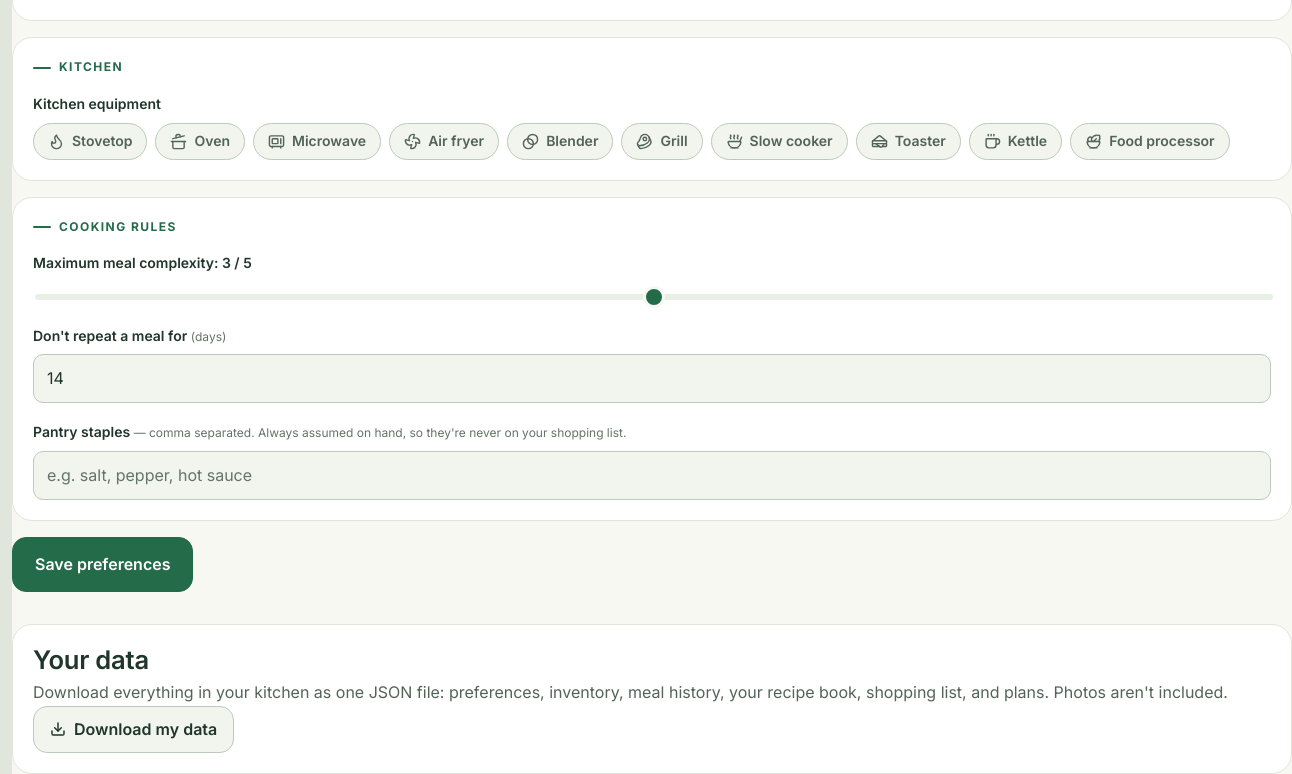
Test: downloads the kitchen as a dated JSON file from Settings
(page scrolled)
Click the button "Download my data".
click(134, 729)  # box [33, 706, 234, 753]
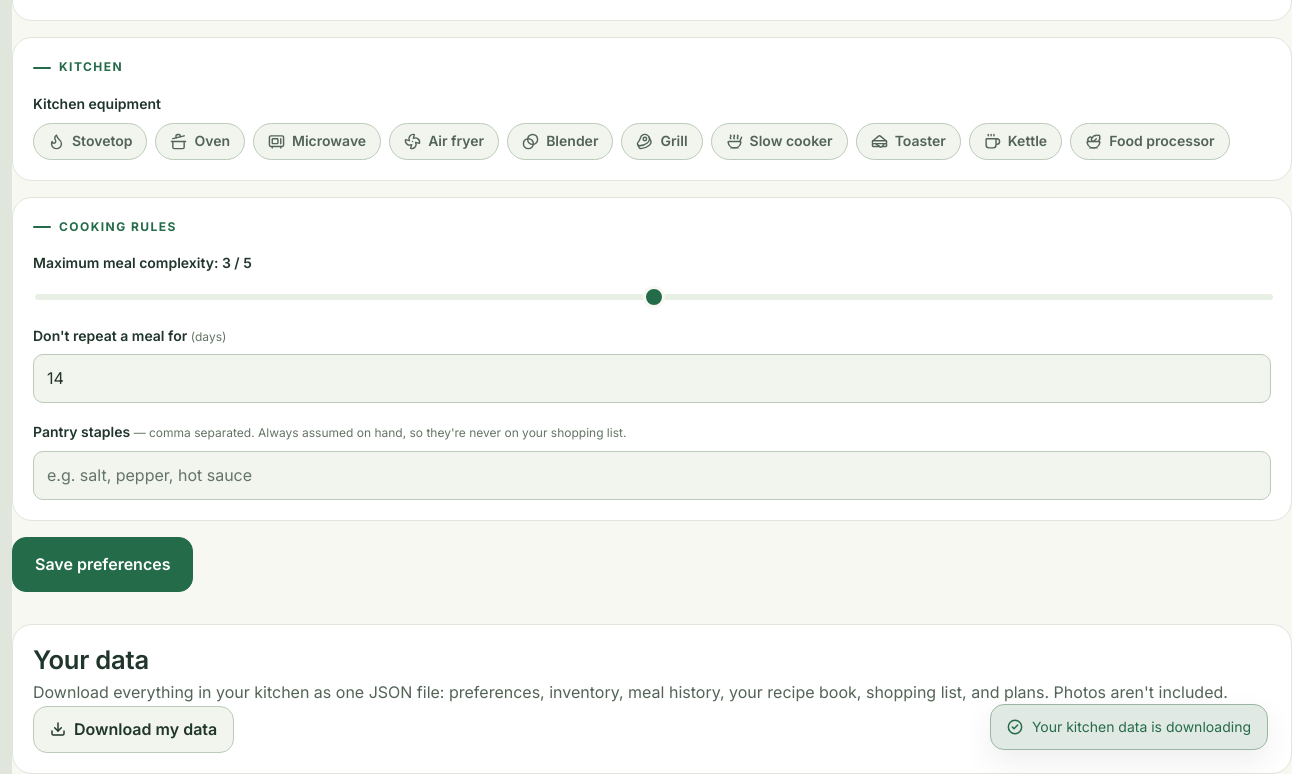
Expected: the text "Your kitchen data is downloading" is shown, [1032, 716, 1251, 738]
